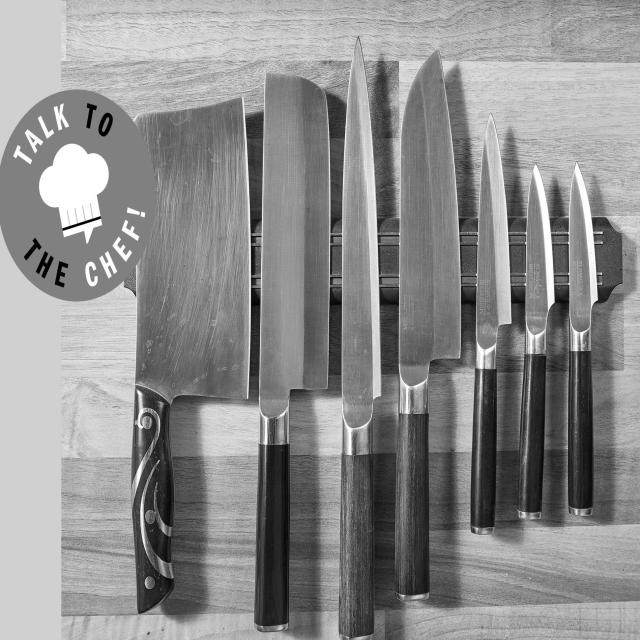Weapon: (131, 98, 250, 613), (255, 73, 330, 632), (395, 51, 461, 598), (339, 39, 381, 640), (471, 115, 511, 534)
